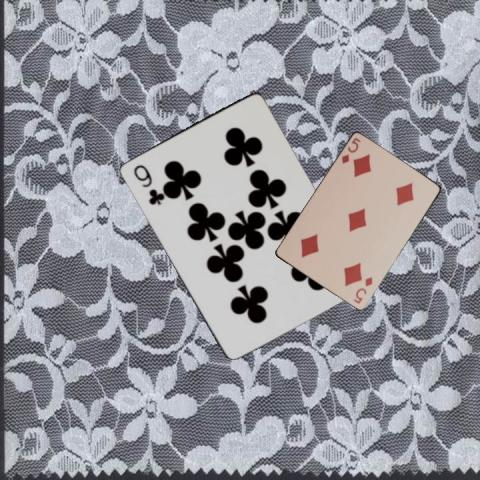5d: (351, 274, 374, 306), (339, 135, 362, 165)
9c: (130, 161, 163, 207)
